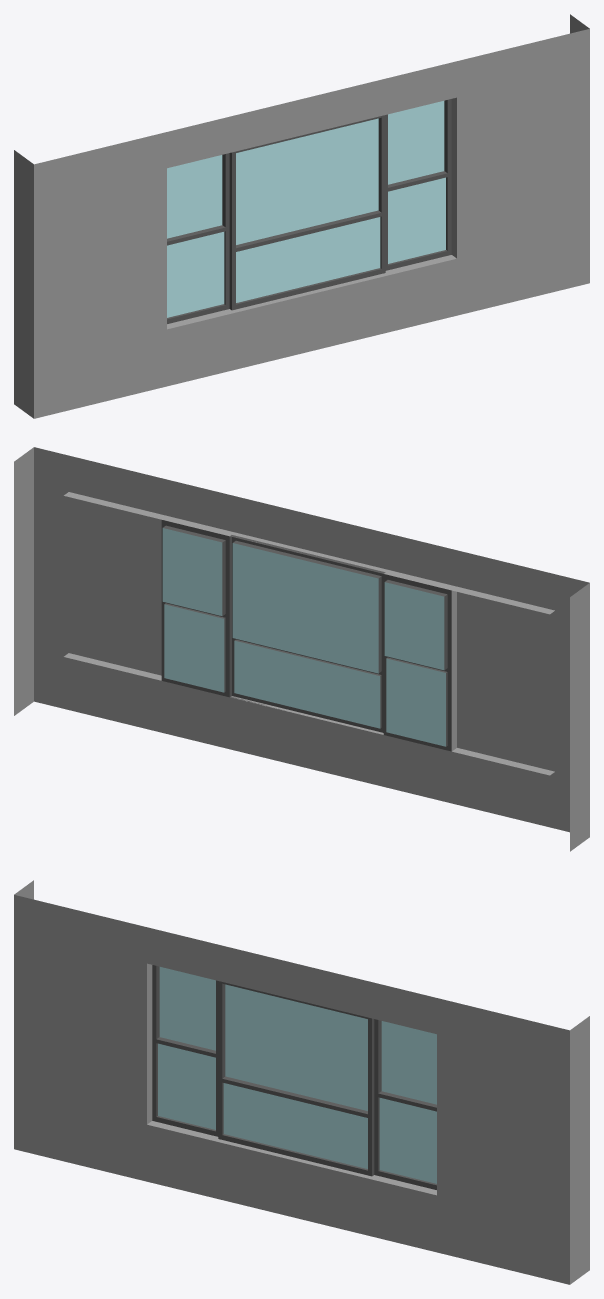
The model's file is LargeWindow.fbx.
3 views of the same model, one above another, from view 1: azimuth 30°, elevation 25°; view 2: azimuth 150°, elevation 25°; view 3: azimuth 330°, elevation 25° (orthographic).
Visible parts, largest first — view 1: LargeWindow; view 2: LargeWindow; view 3: LargeWindow.
Part boxes in pixels (x1,y1,x2,y2): LargeWindow: (14,14,589,418); LargeWindow: (14,447,589,851); LargeWindow: (14,880,589,1284).
Bounding box in the file's own units: 800 × 350 × 50.
